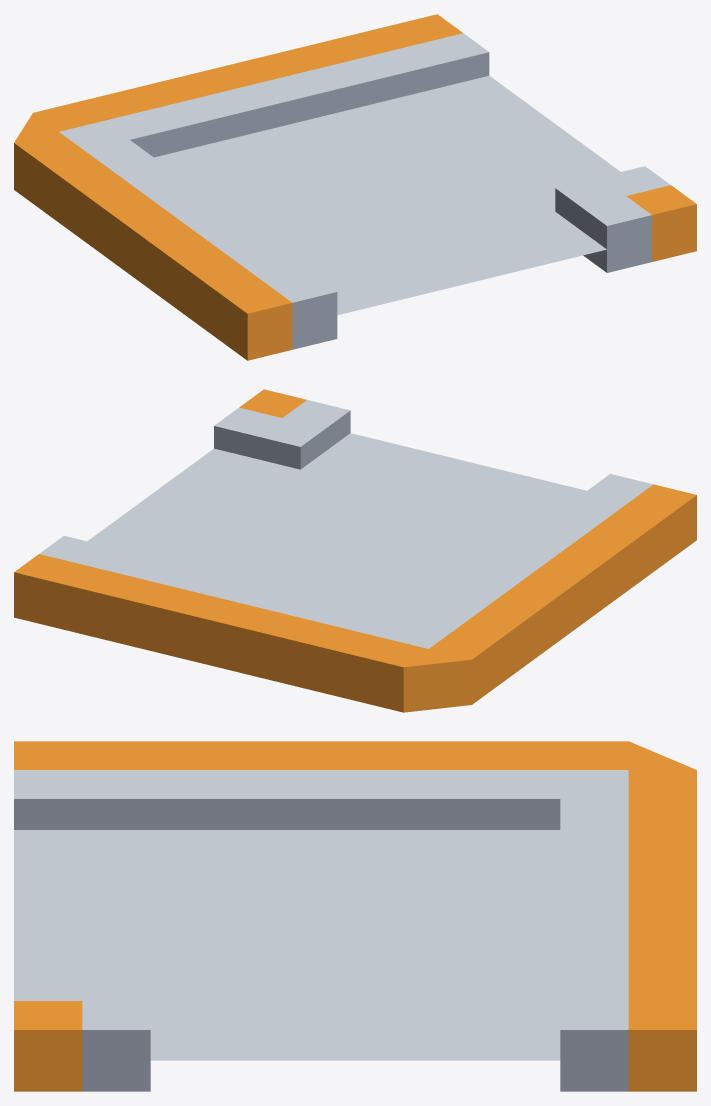
Rendered from platform_corner.glb.
3 renders of one model, top to bottom at view 1: azimuth 30°, elevation 25°; view 2: azimuth 150°, elevation 25°; view 3: azimuth 270°, elevation 25°, orthographic. The views are drawn at different scales.
Parts seen in each view (by area): view 1: platform_corner; view 2: platform_corner; view 3: platform_corner.
Part boxes in pixels (<box>): platform_corner: <box>14,14,696,360</box>; platform_corner: <box>14,389,696,712</box>; platform_corner: <box>14,741,696,1091</box>.
Bounding box in the file's own units: 1 × 0.1 × 1.
